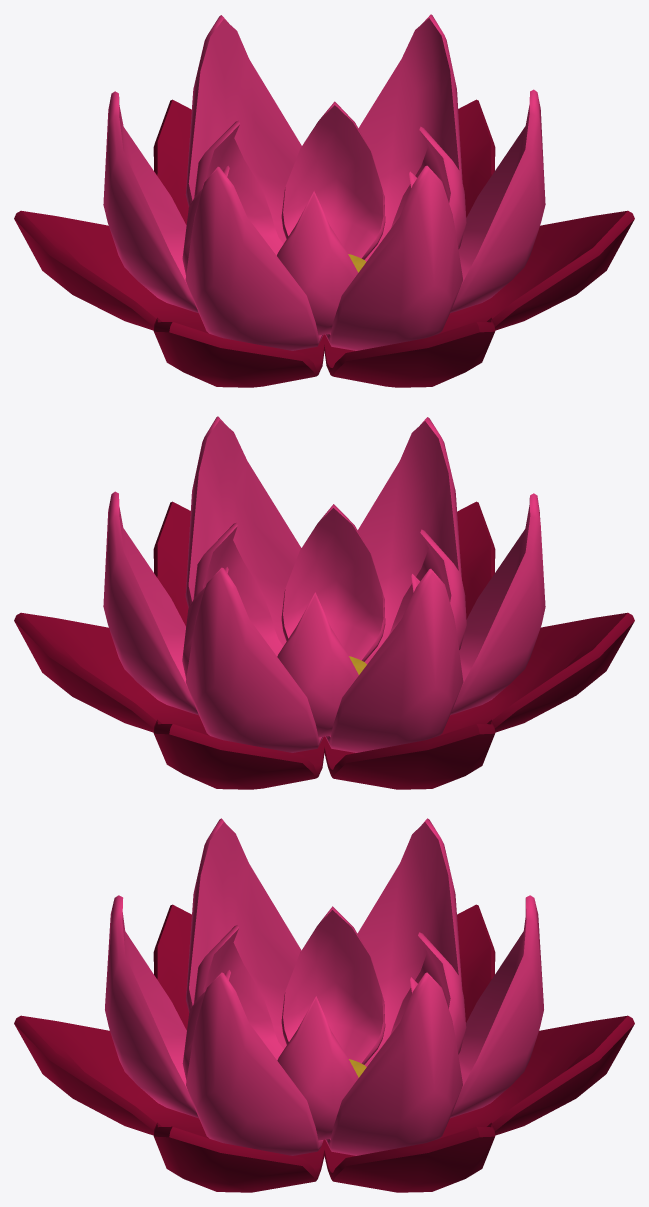
Rendered from Farm_Fighter_Flower_model.FBX.
The picture shows the model from 3 angles, top to bottom: view 1: azimuth 30°, elevation 25°; view 2: azimuth 150°, elevation 25°; view 3: azimuth 270°, elevation 25°; orthographic projection.
Parts seen in each view (by area): view 1: Cylinder006; view 2: Cylinder006; view 3: Cylinder006.
Part boxes in pixels (x1,y1,x2,y2): Cylinder006: [14, 14, 634, 387]; Cylinder006: [14, 416, 634, 789]; Cylinder006: [14, 818, 634, 1192].
Size of the model in its own units: 128 by 61.71 by 148.
